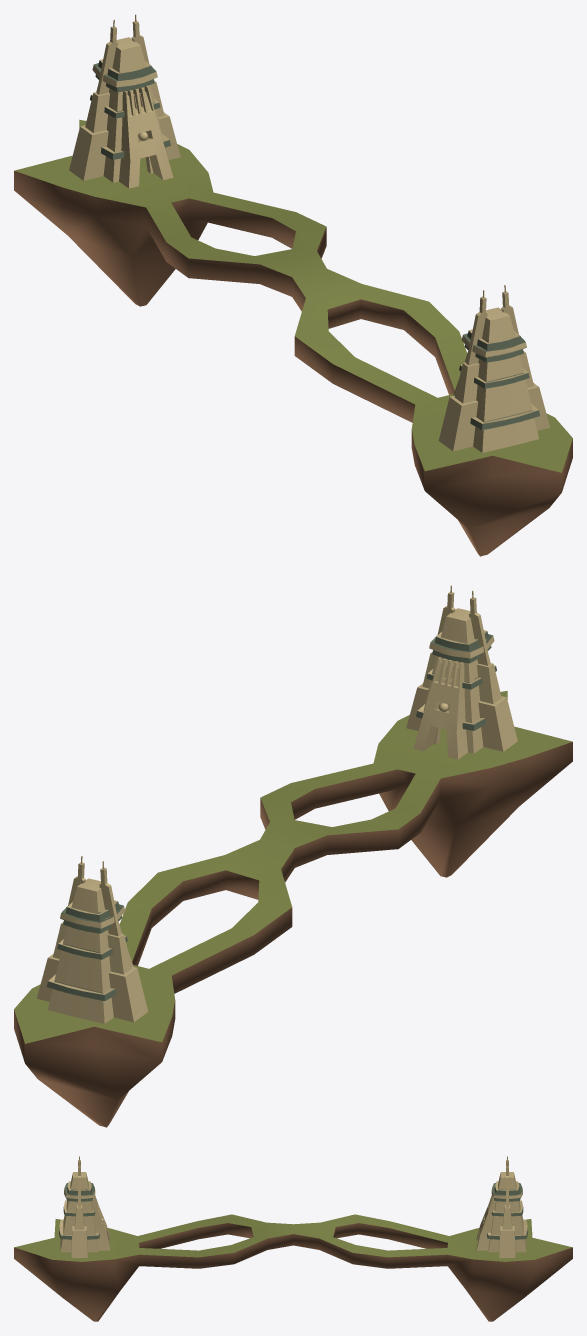
The model's file is TowerFWMap_Mesh.FBX.
The picture shows the model from 3 angles, top to bottom: view 1: azimuth 30°, elevation 25°; view 2: azimuth 150°, elevation 25°; view 3: azimuth 270°, elevation 25°; orthographic projection. The views are drawn at different scales.
Parts seen in each view (by area): view 1: GroundFW, TowerFW; view 2: GroundFW, TowerFW; view 3: GroundFW, TowerFW.
Part boxes in pixels (x1,y1,x2,y2): GroundFW: (14,119,572,556); TowerFW: (69,14,549,452); GroundFW: (14,690,572,1127); TowerFW: (37,585,517,1023); GroundFW: (14,1214,572,1321); TowerFW: (59,1156,527,1257).
Bounding box in the file's own units: 126 × 212 × 667.
Materials: 2 (2 with a texture image).
